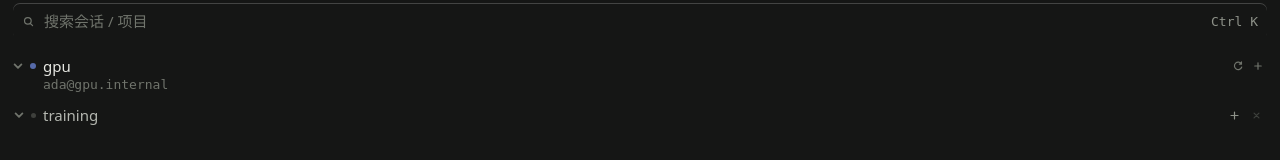
Scenario: the rail's search reaches every machine › opens a folded machine rather than hiding what it just found
The width and height of the screenshot is (1280, 160).
Click the text "gpu".
click(57, 66)  # box x1=43 y1=56 x2=71 y2=76
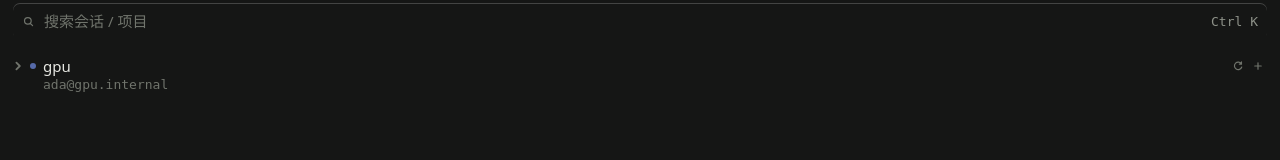
Result: the text "training" is gone
Type "train" into the search field labelled "搜索会话 / 项目".
click(623, 21); type("train")  # box x1=42 y1=10 x2=1204 y2=32
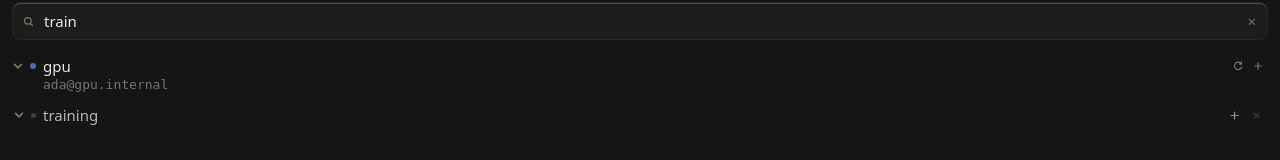
Result: the text "training" is shown at x1=43 y1=105 x2=98 y2=125
